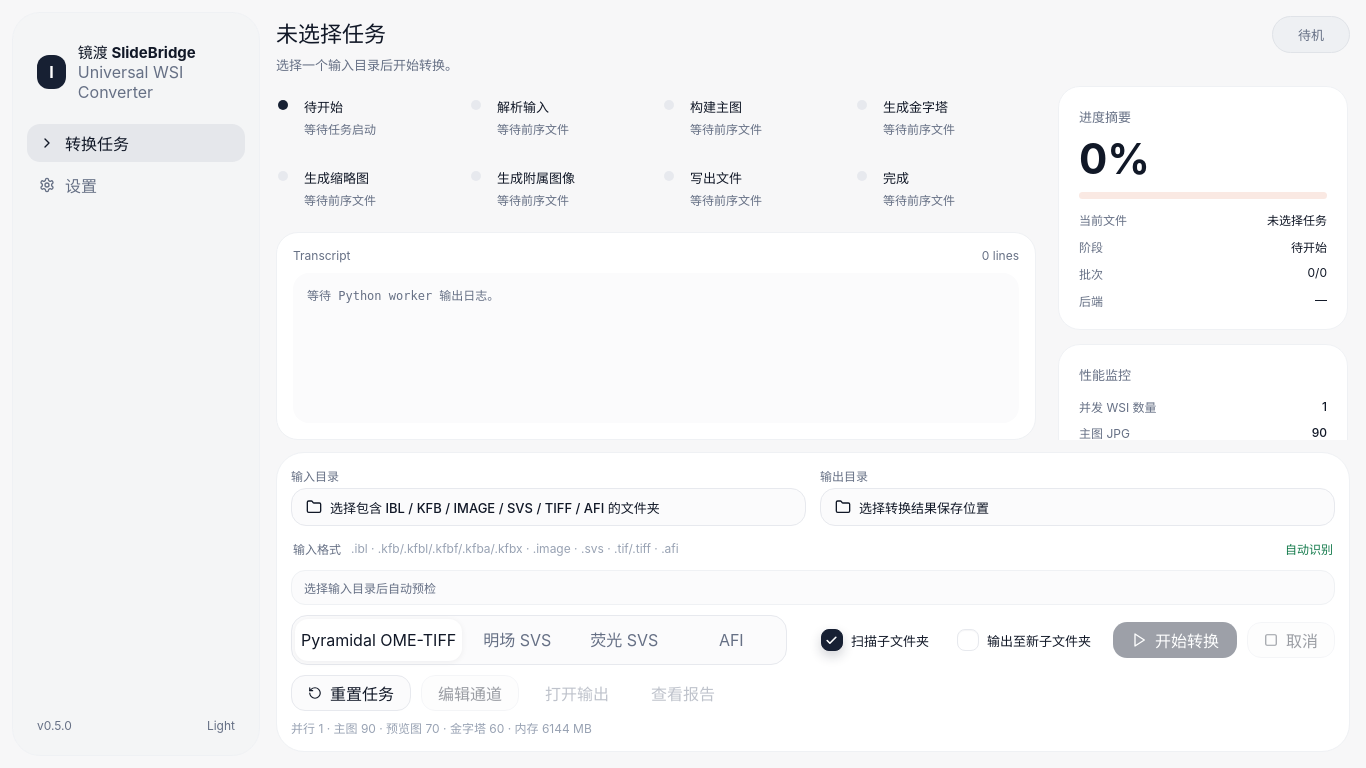
Test case: App reset › marks inspection failed when the worker terminates
Click the button "输入目录 选择包含 IBL / KFB / IMAGE / SVS / TIFF / AFI 的文件夹" at (548, 497), box [291,467,806,526]
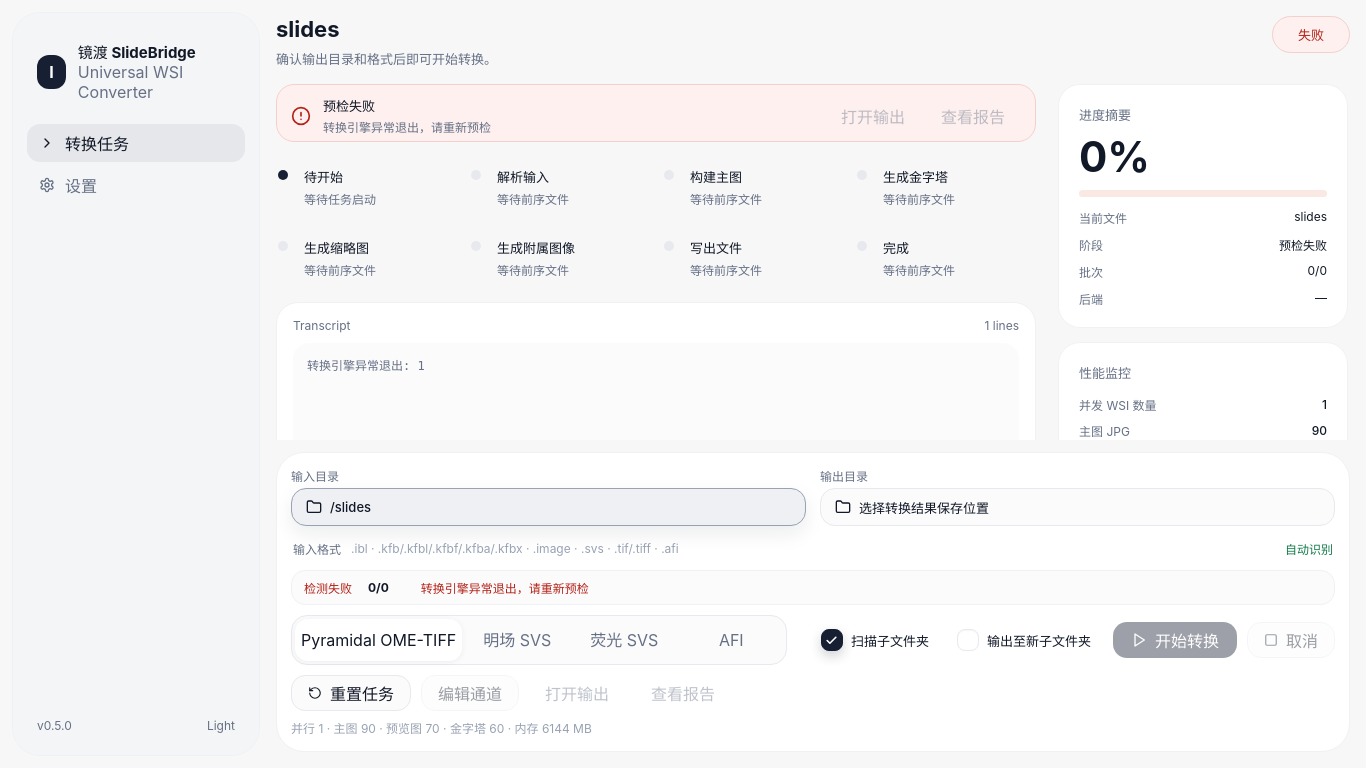
expect the 1st text "预检失败" is shown: met, box [323,98,375,114]
expect the text "检测失败" is shown: met, box [304,579,352,596]
expect the text "转换引擎异常退出，请重新预检" in the row of "进度摘要" is shown: met, box [323,120,491,135]
